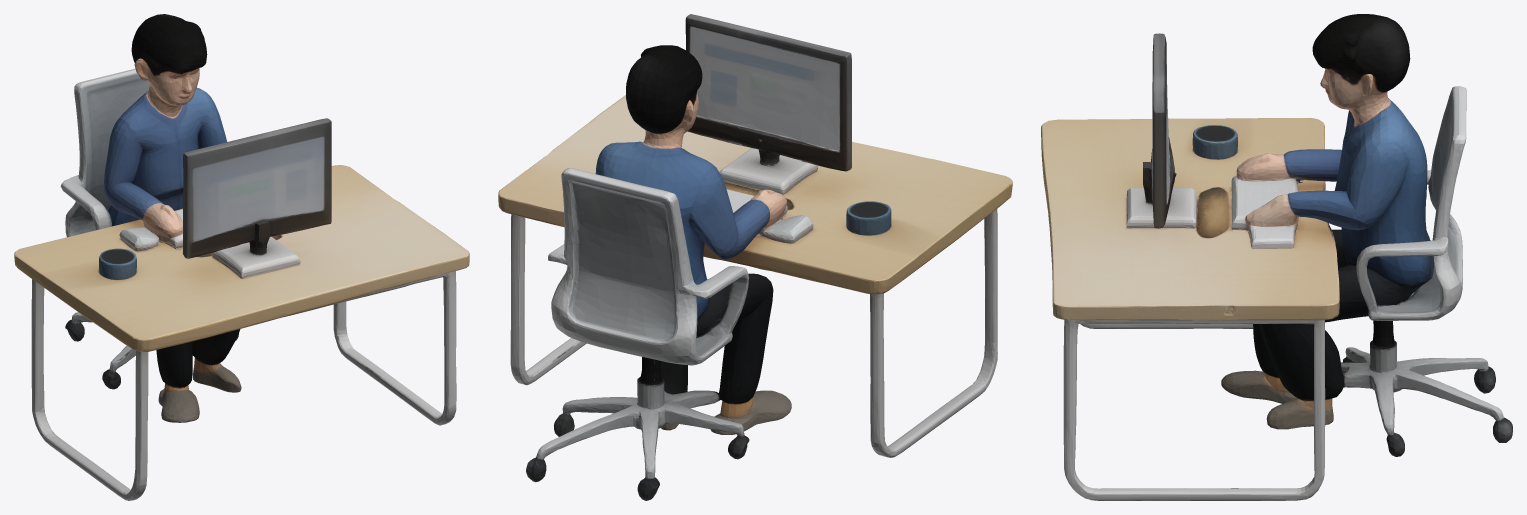
3 renders of one model, left to right at view 1: azimuth 30°, elevation 25°; view 2: azimuth 150°, elevation 25°; view 3: azimuth 270°, elevation 25°, orthographic. The views are drawn at different scales.
Parts seen in each view (by area): view 1: world; view 2: world; view 3: world.
Part boxes in pixels (x1,y1,x2,y2): world: [14, 14, 469, 500]; world: [498, 14, 1012, 500]; world: [1041, 14, 1512, 500].
Bounding box in the file's own units: 0.9502 × 0.9328 × 0.9991.
Materials: 1 (1 with a texture image).
